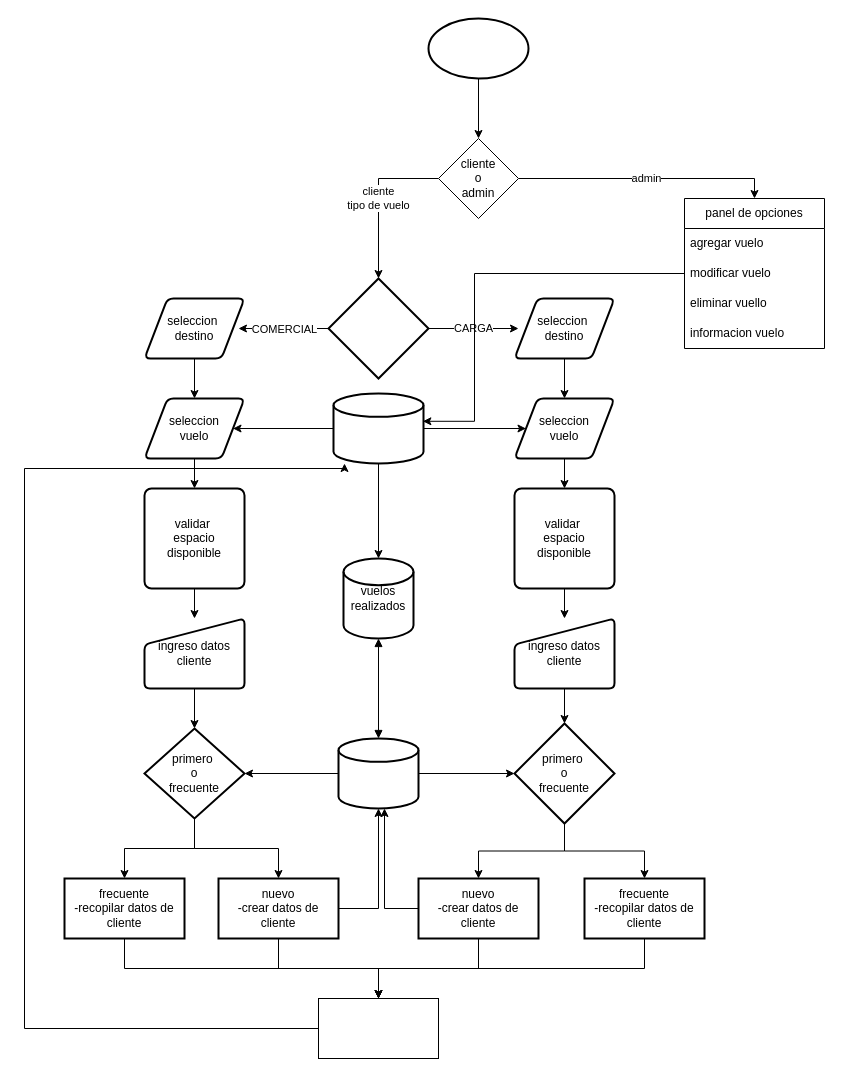
Image size: 842x1076. Some labels were removed from this diagram. The centre of each missing label's shape, as x and y in pixels:
"abres app" belongs at point 478,48.
"Clientes" belongs at point 378,773.
"comercial o carga" belongs at point 378,328.
"generar reservacion en vuelo" belongs at point 378,1028.
"vuelos programados" belongs at point 378,428.
